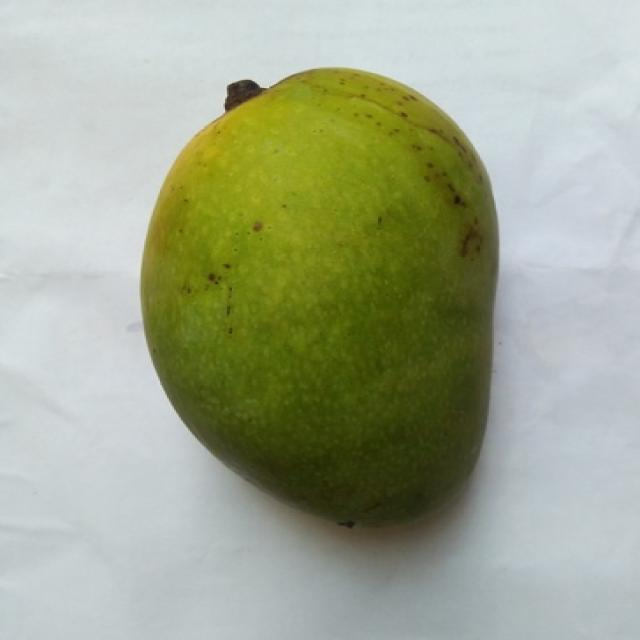Mango: (141, 69, 496, 526)
